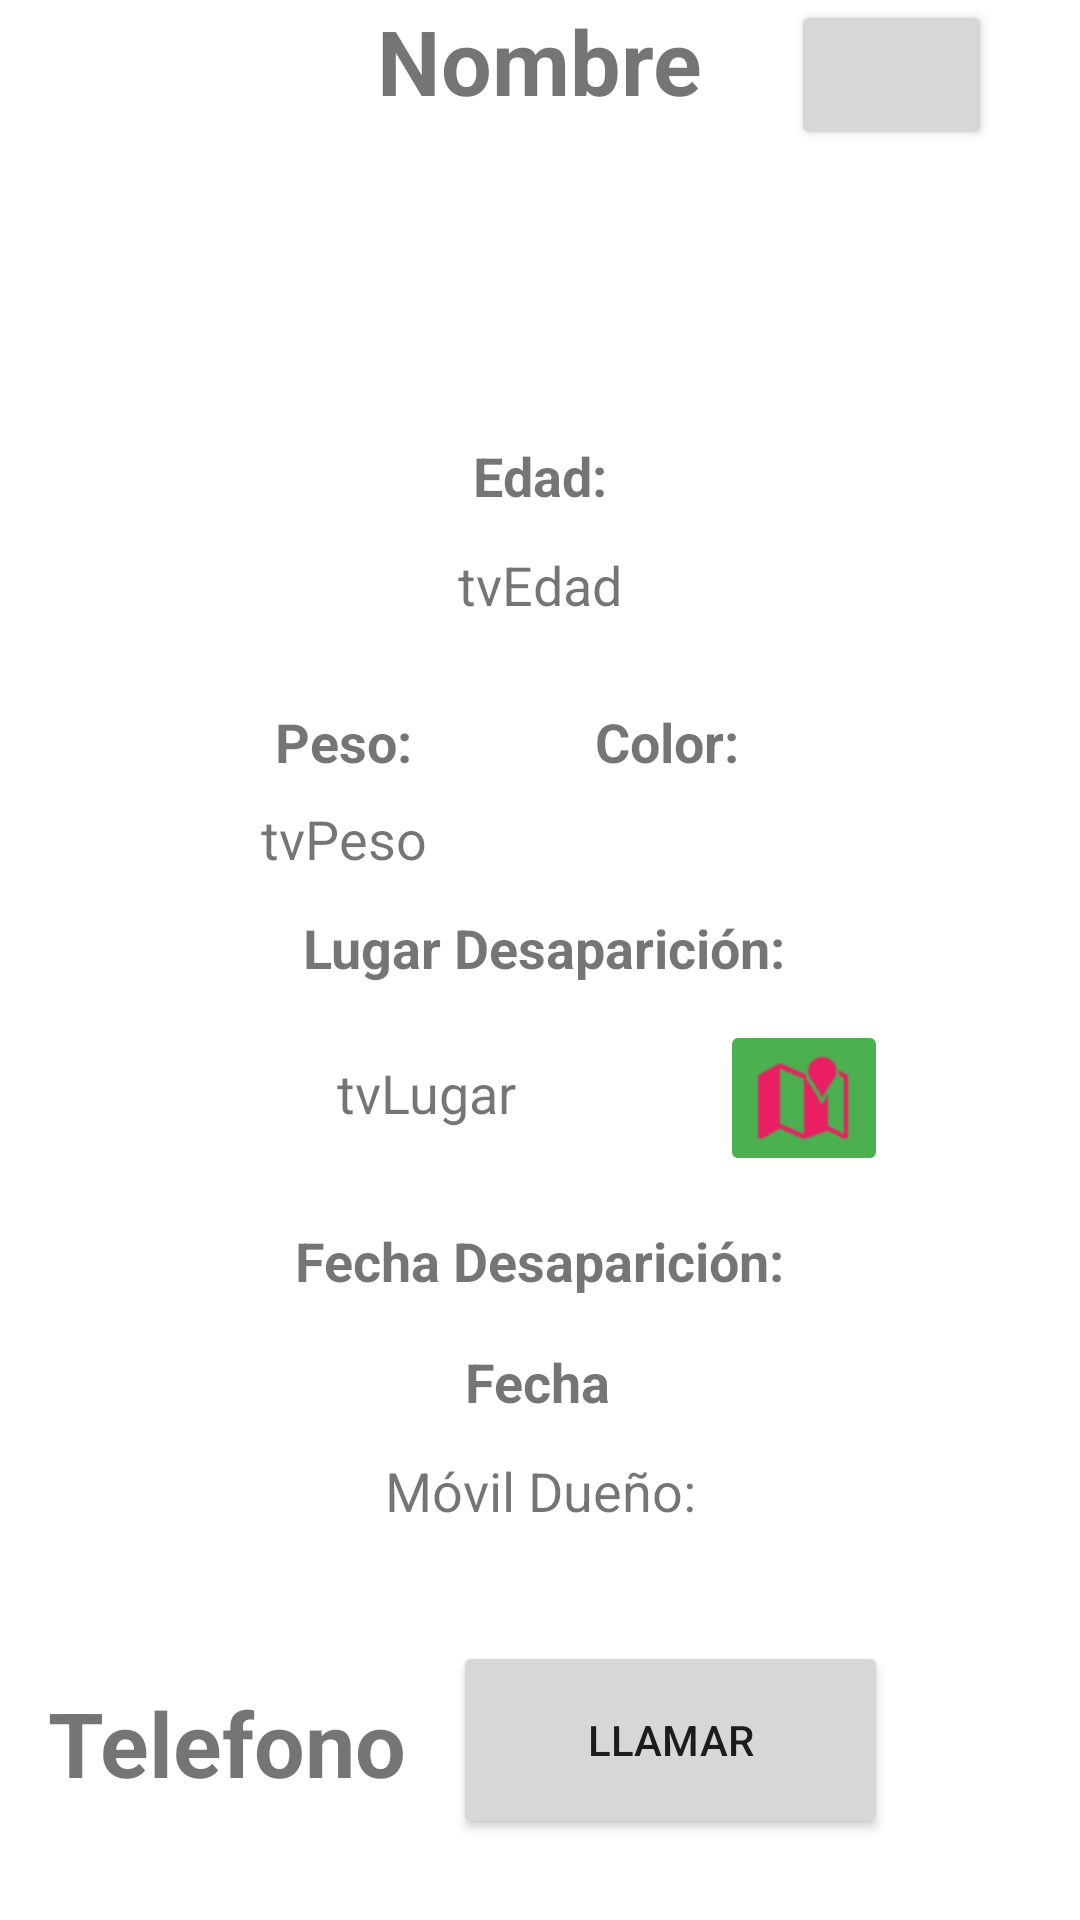

Point at icon controls on the screen. Image size 1080*1920, points as (x=x, y=y).
Ubicar: (x=804, y=1098)
